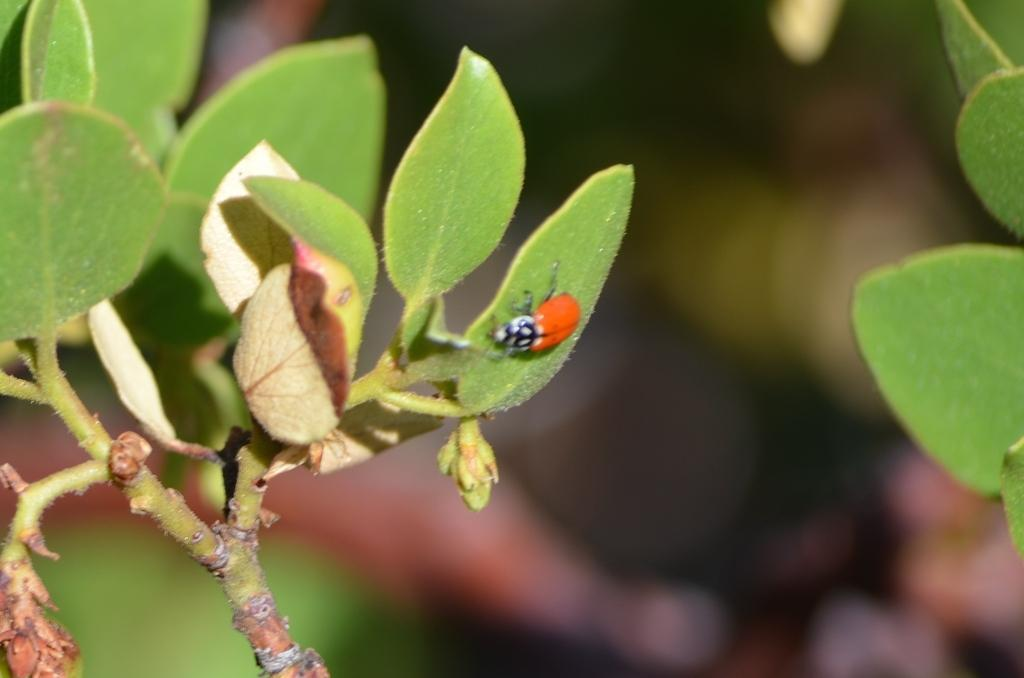ladybug: (488, 260, 584, 359)
